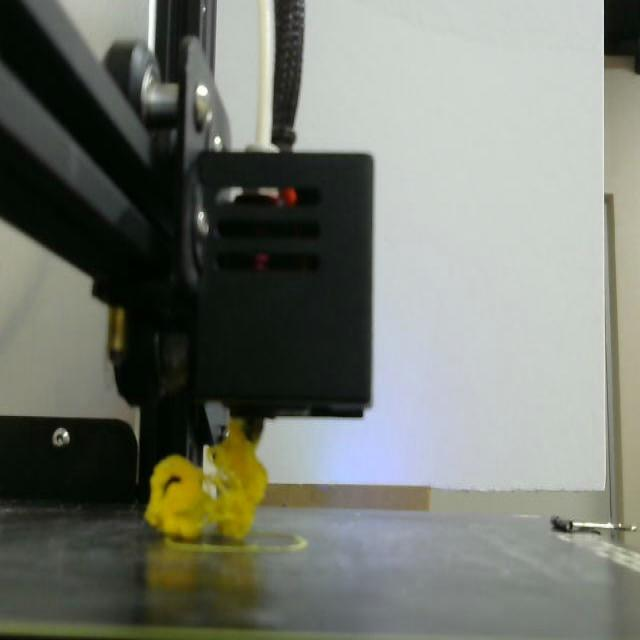spaghetti: (140, 421, 267, 542)
